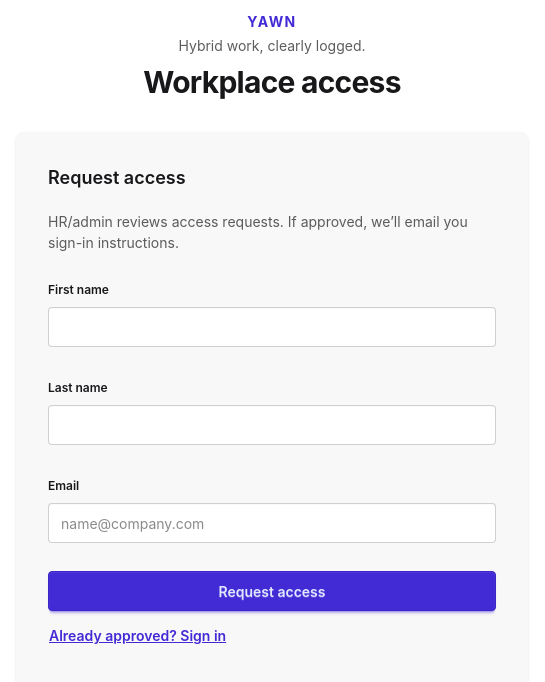
Home › keeps access request available after API outage
Type " Ada " into the field named "First name".
click(272, 327); type(" Ada ")  # box [48,307,496,347]
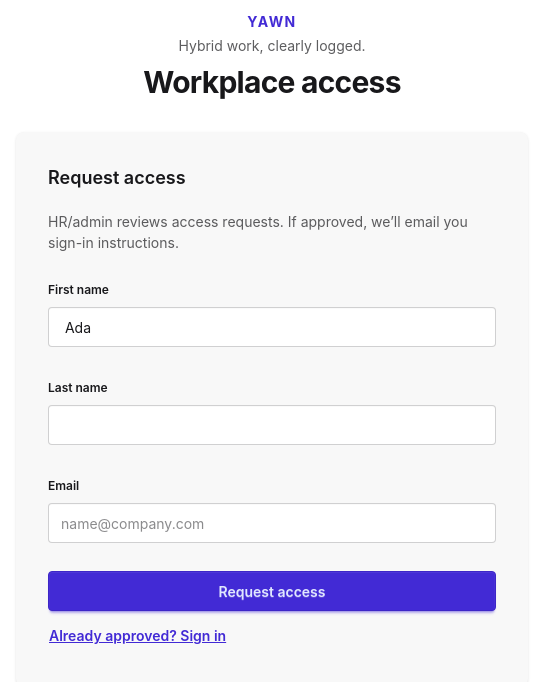
Type " Lovelace " into the field named "Last name".
click(272, 425); type(" Lovelace ")  # box [48,405,496,445]
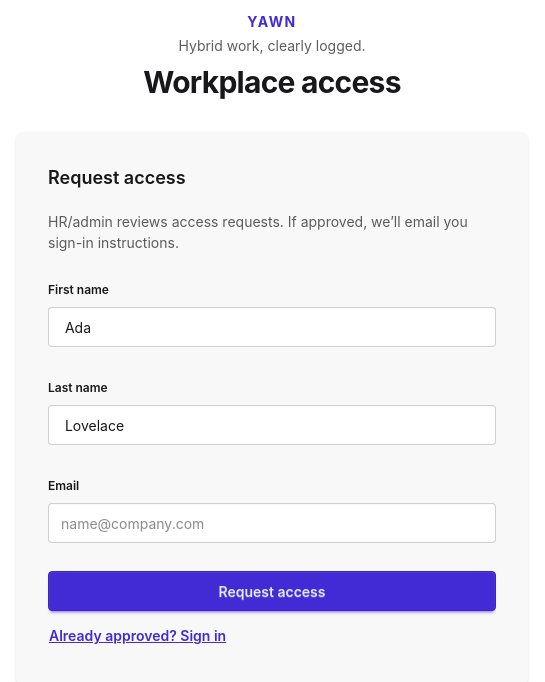
Type "ADA@EXAMPLE.COM" into the field named "Email".
click(272, 523); type("ADA@EXAMPLE.COM")  # box [48,503,496,543]
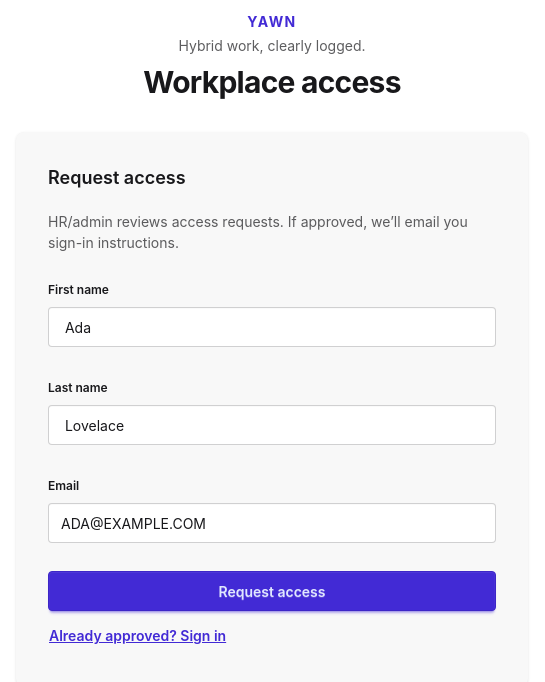
Click the button "Request access".
click(272, 591)  # box [48,571,496,611]
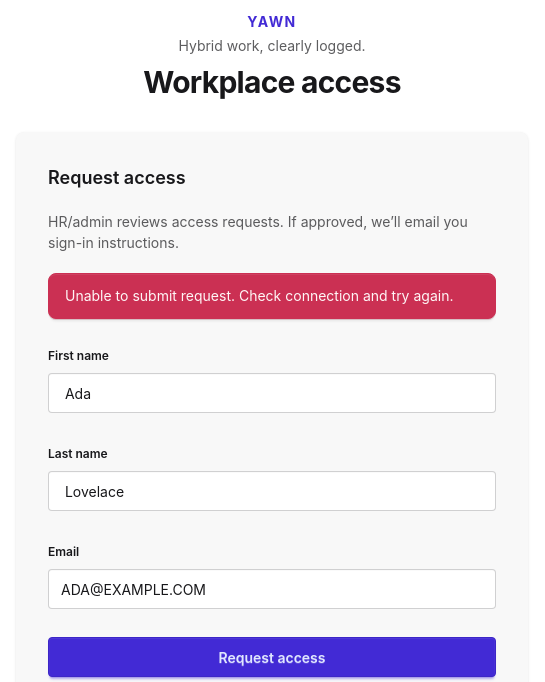
Expected: the button "Request access" is shown, [48,637,496,677]
Result: the message shows "Check connection and try again." at [65,287,453,304]
